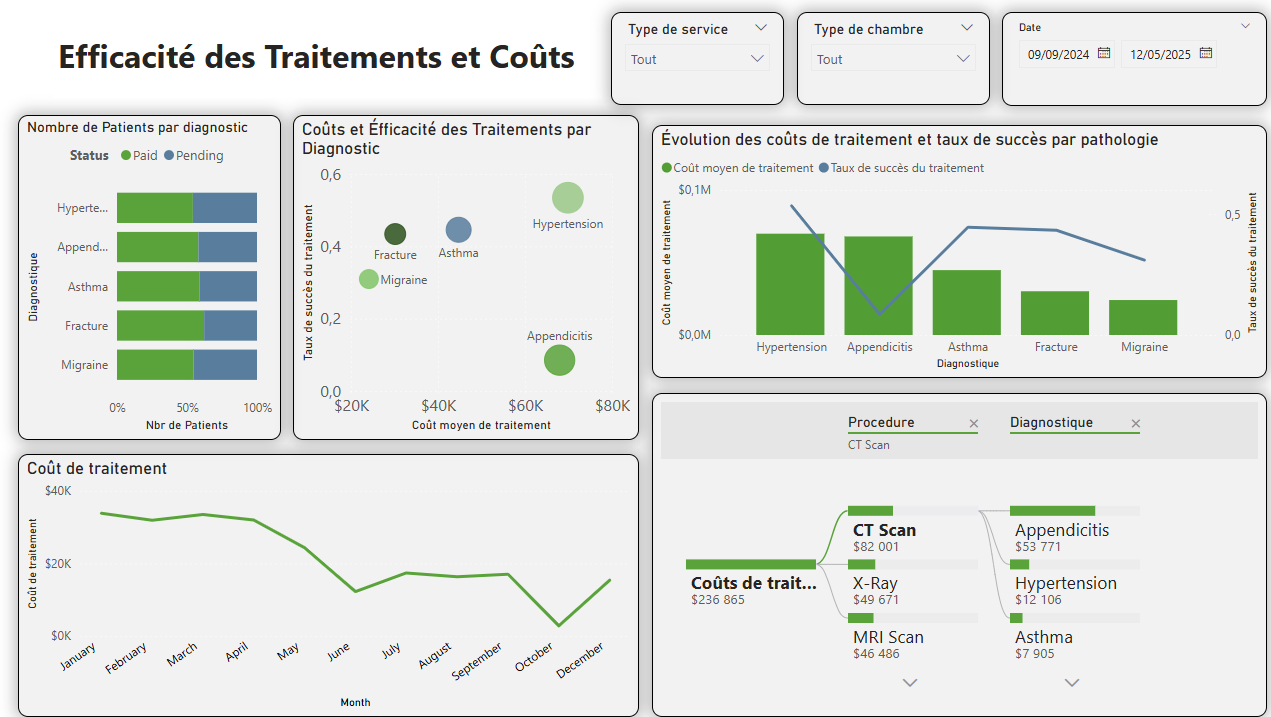

The page's visual inventory and layout, read from the dashboard file:
{"tool":"powerbi","page":{"name":"Traitements et coûts","canvas":[1280,720],"ordinal":4},"visuals":[{"type":"lineChart","title":"Coût de traitement","fields":{"Category":["visits.Date of Visit.Variation.Date Hierarchy.Year","visits.Date of Visit.Variation.Date Hierarchy.Quarter","visits.Date of Visit.Variation.Date Hierarchy.Month","visits.Date of Visit.Variation.Date Hierarchy.Day"],"Y":["Sum(visits.Treatment Cost)"]},"box":[19.7,455.8,620.8,263.5],"z":0},{"type":"decompositionTreeVisual","fields":{"ExplainBy":["procedures.Procedure","diagnoses.Diagnosis"],"Analyze":["Sum(visits.Treatment Cost)"]},"box":[654.1,395.2,614.8,324],"z":1000},{"type":"scatterChart","title":"Coûts et Éfficacité des Traitements par Diagnostic","fields":{"X":["visits.Coût moyen de traitement par diagnostic"],"Size":["visits.Coût moyen de traitement par diagnostic"],"Y":["visits.Taux de succès du traitement"],"Series":["diagnoses.Diagnosis"]},"box":[295.3,116.6,345.2,325.6],"z":2000},{"type":"lineStackedColumnComboChart","title":"Évolution des coûts de traitement et taux de succès par pathologie","fields":{"Category":["diagnoses.Diagnosis"],"Y":["visits.Coût moyen de traitement par diagnostic"],"Y2":["visits.Taux de succès du traitement"]},"box":[654.1,127.2,614.8,252.9],"z":3000},{"type":"hundredPercentStackedBarChart","title":"Nombre de Patients par diagnostic","fields":{"Category":["diagnoses.Diagnosis"],"Y":["CountNonNull(visits.Patient ID)"],"Series":["visits.Payment Status"]},"box":[19.7,116.6,263.5,325.6],"z":4000},{"type":"textbox","box":[54.5,30.3,549.7,69.7],"z":5000},{"type":"slicer","fields":{"Values":["visits.Admitted Date"]},"box":[1003.9,13.6,265,93.9],"z":6000},{"type":"slicer","fields":{"Values":["visits.Room Type"]},"box":[799.3,14.2,192.4,93],"z":7000},{"type":"slicer","fields":{"Values":["visits.Service Type"]},"box":[613.3,14.2,173,93],"z":8000}]}

Visuals, with their boxes in screenshot pixels (x1, y1, x2, y2), scaled from the page's 1280x720 canvas onto the 1271x717 screenshot:
"Coût de traitement" lineChart: l=20, t=454, r=636, b=716
decompositionTreeVisual - procedures.Procedure x diagnoses.Diagnosis: l=650, t=394, r=1260, b=716
"Coûts et Éfficacité des Traitements par Diagnostic" scatterChart: l=293, t=116, r=636, b=440
"Évolution des coûts de traitement et taux de succès par pathologie" lineStackedColumnComboChart: l=650, t=127, r=1260, b=379
"Nombre de Patients par diagnostic" hundredPercentStackedBarChart: l=20, t=116, r=281, b=440
textbox: l=54, t=30, r=600, b=100
slicer - visits.Admitted Date: l=997, t=14, r=1260, b=107
slicer - visits.Room Type: l=794, t=14, r=985, b=107
slicer - visits.Service Type: l=609, t=14, r=781, b=107
